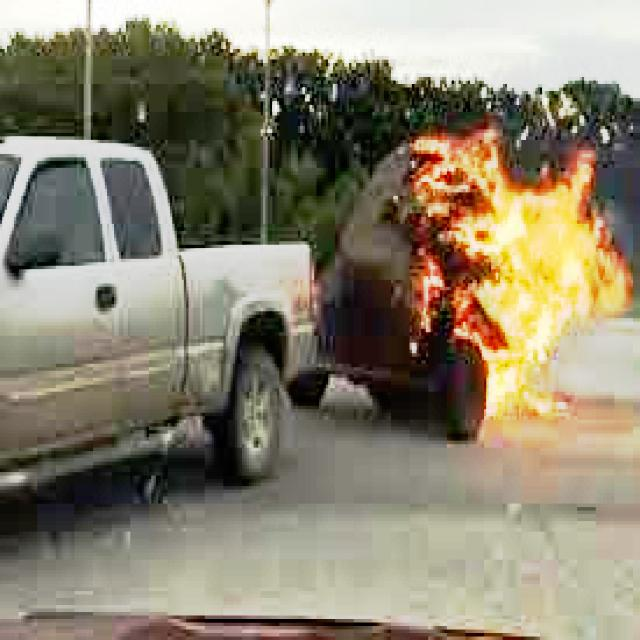api: (394, 120, 625, 438)
